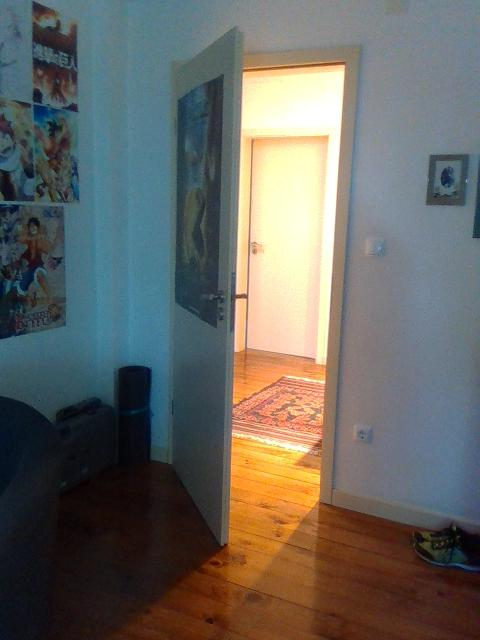semi_door: (165, 22, 365, 547)
